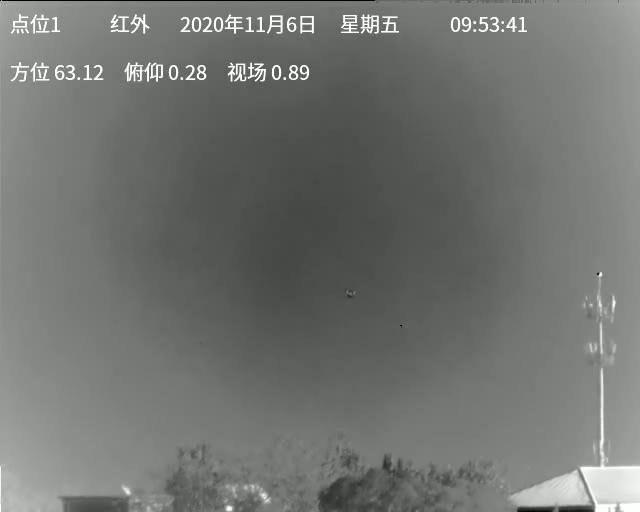uav: (345, 289, 358, 299)
